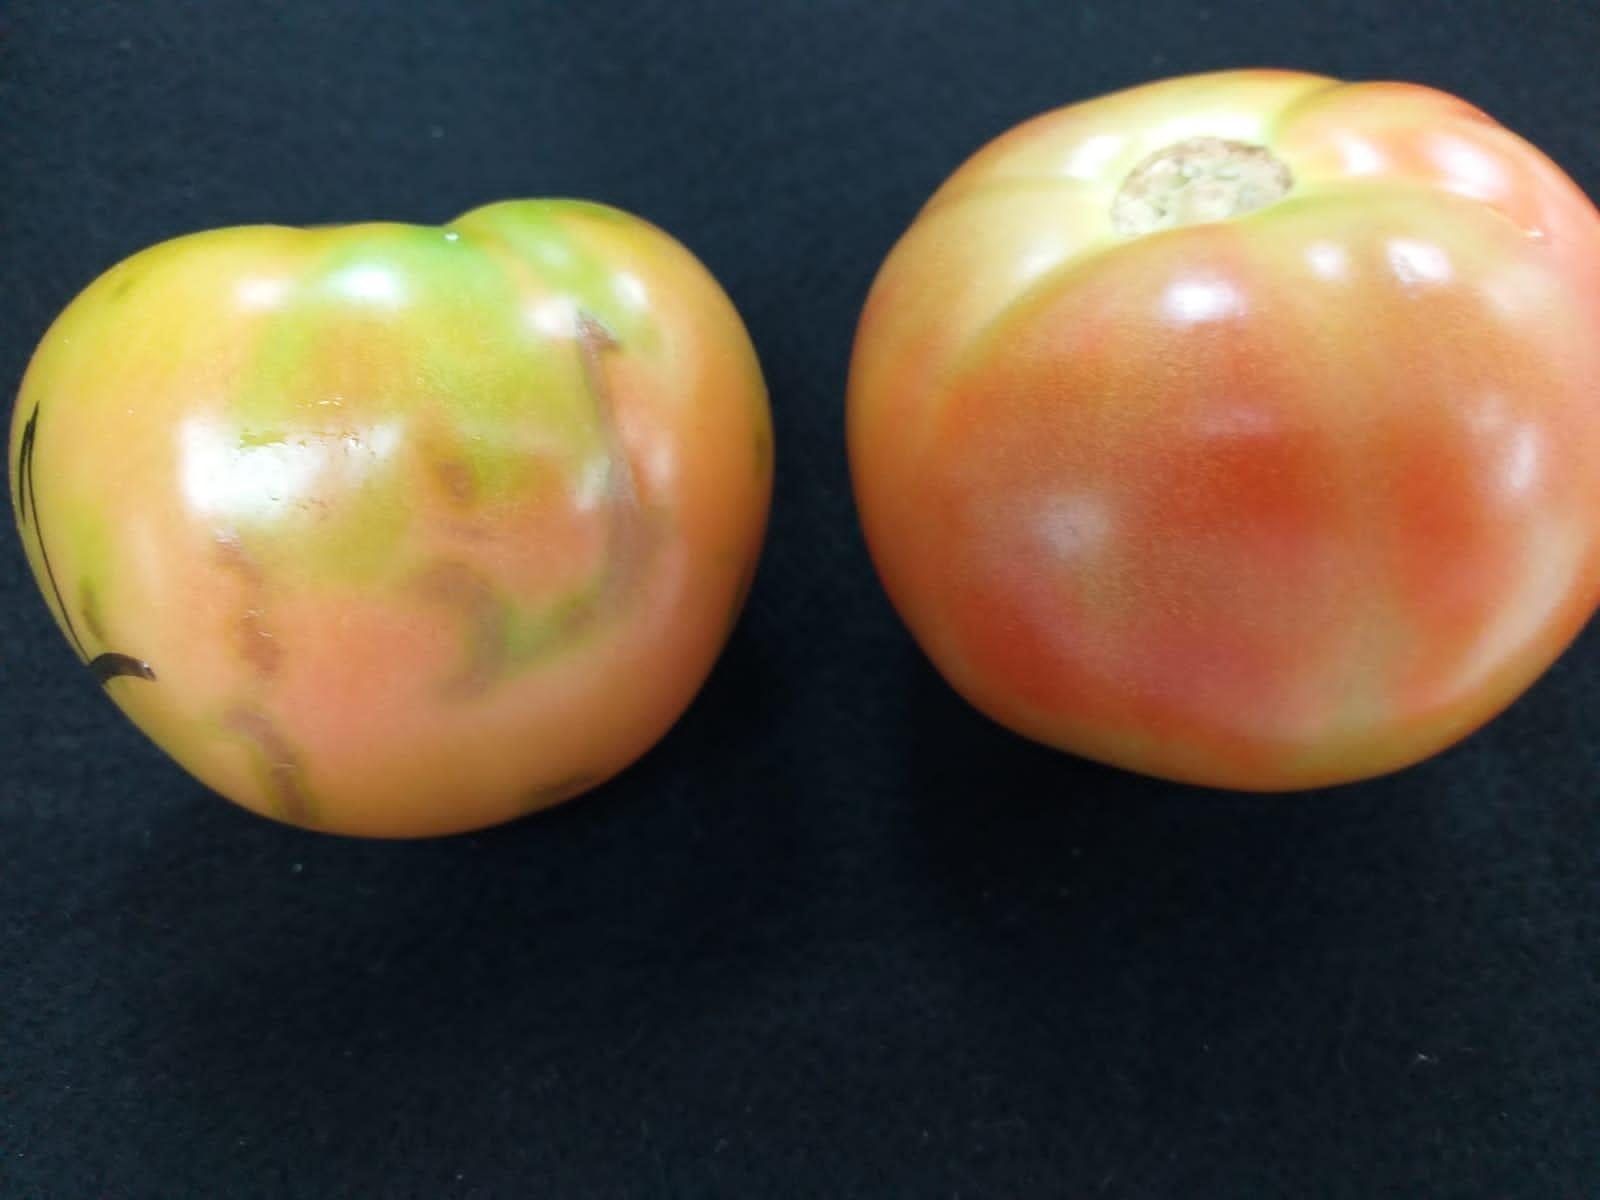Pedunculo rugoso: (847, 69, 1600, 788), (13, 200, 772, 837)
